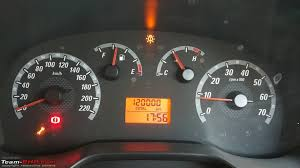Digital_Meter: (123, 95, 174, 126)
